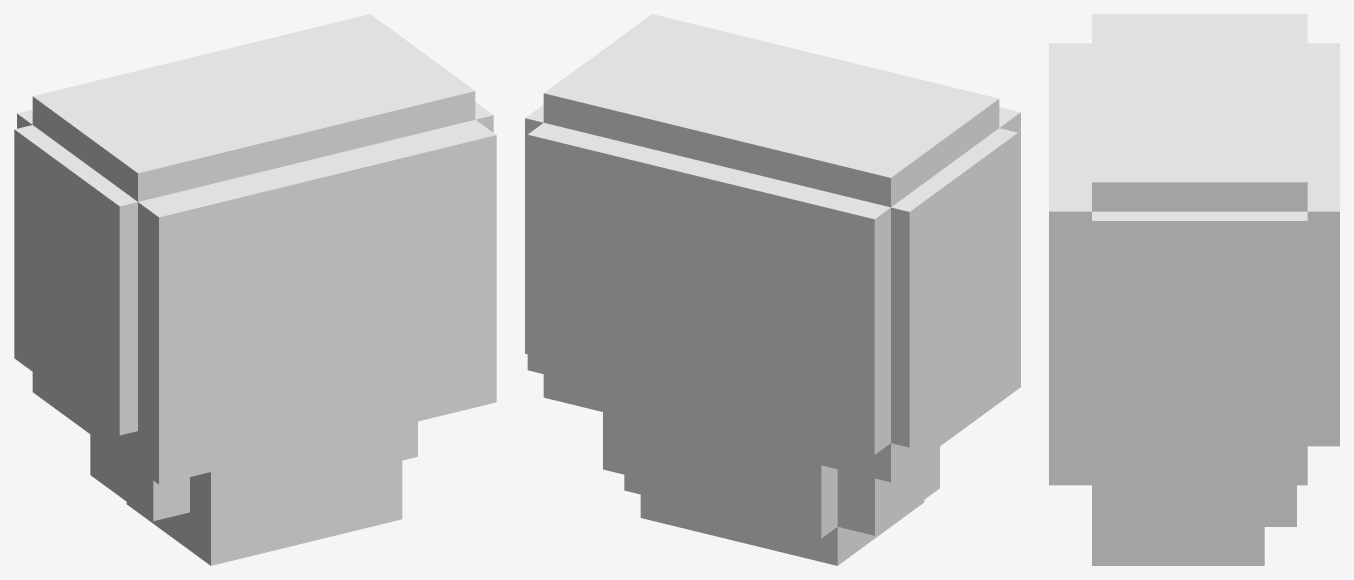
File: PlayerDark-0-Player_Head.obj
3 views of the same model, side by side, from view 1: azimuth 30°, elevation 25°; view 2: azimuth 150°, elevation 25°; view 3: azimuth 270°, elevation 25° (orthographic). The views are drawn at different scales.
Parts seen in each view (by area): view 1: Player_Head; view 2: Player_Head; view 3: Player_Head.
Part boxes in pixels (left/top/right/bottom): Player_Head: left=14, top=14, right=496, bottom=565; Player_Head: left=525, top=14, right=1020, bottom=565; Player_Head: left=1049, top=14, right=1339, bottom=565.
Bounding box in the file's own units: 4.1 × 4.3 × 2.7.
1 material, 1 textured.
